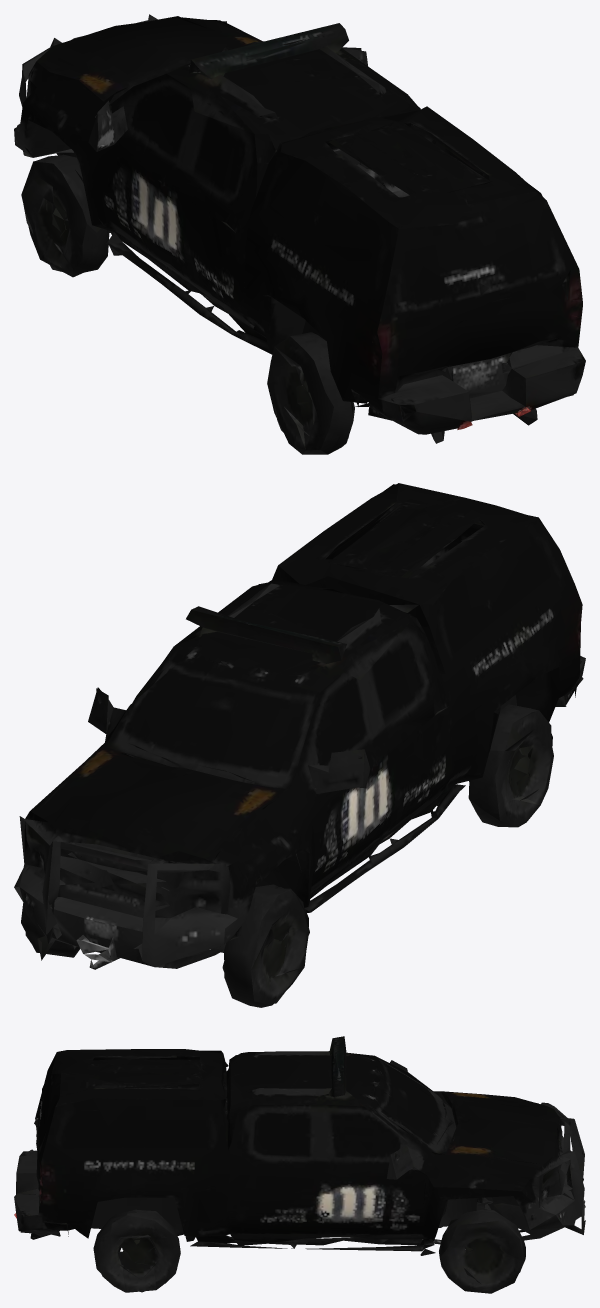
Rendered from caminhonete-policia.glb.
3 renders of one model, top to bottom at view 1: azimuth 30°, elevation 25°; view 2: azimuth 150°, elevation 25°; view 3: azimuth 270°, elevation 25°, orthographic. The views are drawn at different scales.
Visible parts, largest first — view 1: corpo; view 2: corpo; view 3: corpo.
Part boxes in pixels (box(x1,y1,x2,y2)): corpo: box(14, 14, 585, 454); corpo: box(14, 483, 585, 1007); corpo: box(14, 1036, 585, 1293).
Size of the model in its own units: 1.95 by 1.87 by 4.95.
Materials: 1 (1 with a texture image).
